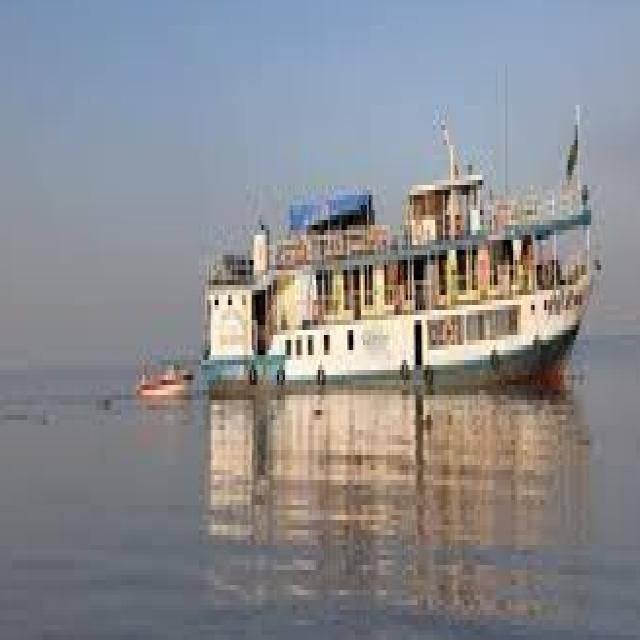houseboat: (203, 123, 605, 417)
